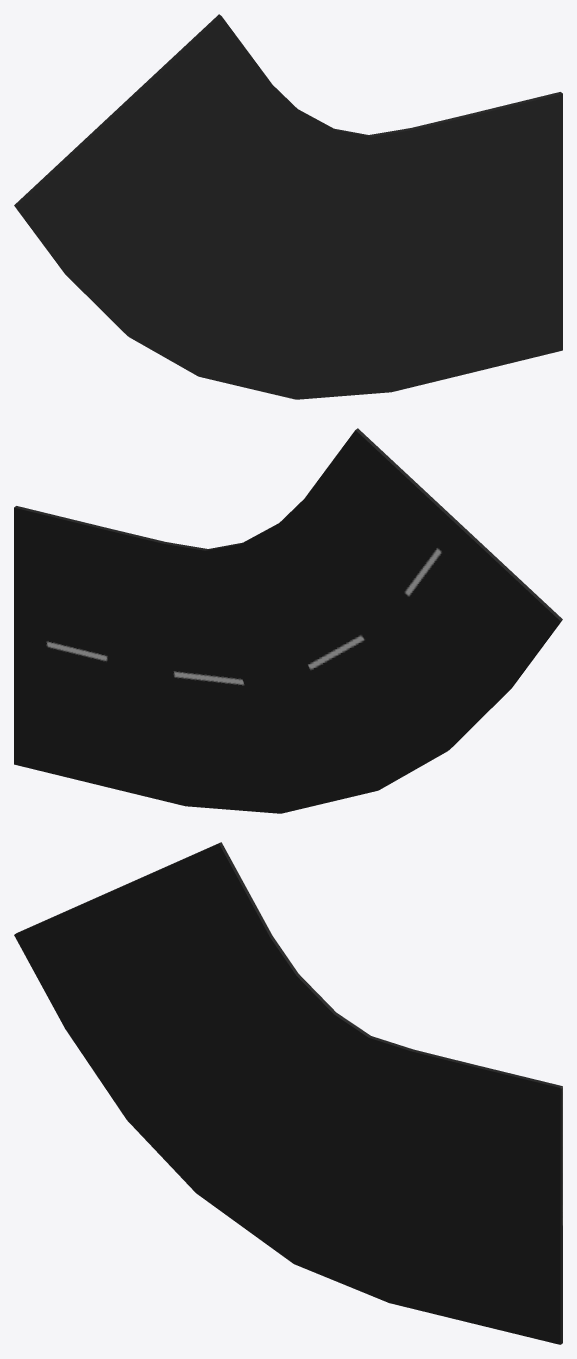
File: road-curve.obj
3 views of the same model, one above another, from view 1: azimuth 30°, elevation 25°; view 2: azimuth 150°, elevation 25°; view 3: azimuth 330°, elevation 25° (orthographic).
Parts seen in each view (by area): view 1: road-curve_Plane.122; view 2: road-curve_Plane.122; view 3: road-curve_Plane.122.
Part boxes in pixels (left/top/right/bottom): road-curve_Plane.122: left=14, top=14, right=562, bottom=399; road-curve_Plane.122: left=14, top=428, right=562, bottom=813; road-curve_Plane.122: left=14, top=842, right=562, bottom=1344.
Bounding box in the file's own units: 8.9 × 6.5 × 0.0695.
